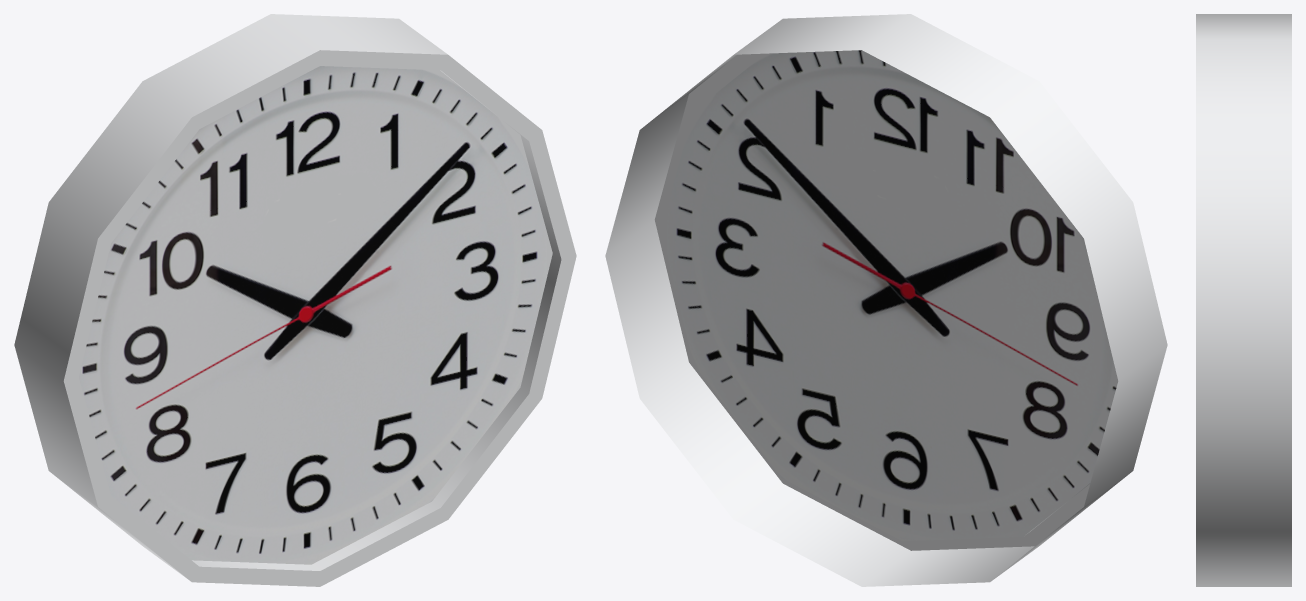
File: clock.fbx
3 renders of one model, left to right at view 1: azimuth 30°, elevation 25°; view 2: azimuth 150°, elevation 25°; view 3: azimuth 270°, elevation 25°, orthographic. The views are drawn at different scales.
Parts seen in each view (by area): view 1: mesh; view 2: mesh; view 3: mesh.
Part boxes in pixels (x1,y1,x2,y2): mesh: (14, 14, 576, 586); mesh: (605, 14, 1167, 586); mesh: (1196, 14, 1291, 586).
Size of the model in its own units: 30 by 30 by 5.
1 material, 1 textured.
